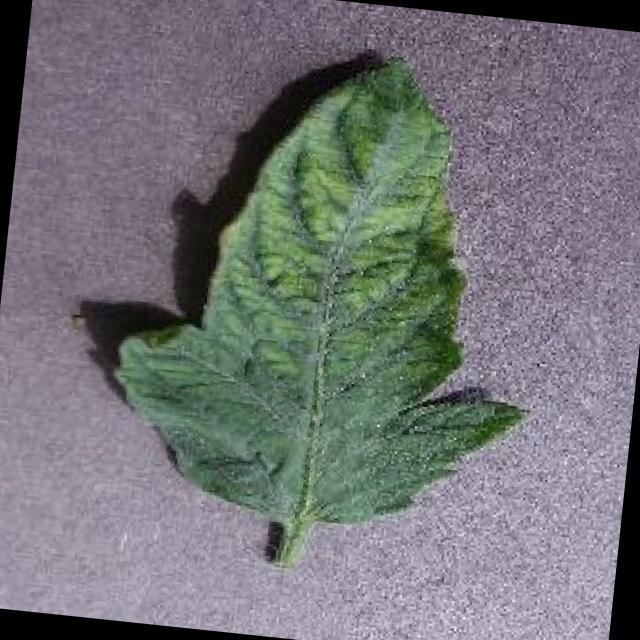Tomato mosaic virus leaf: (97, 25, 560, 544)
